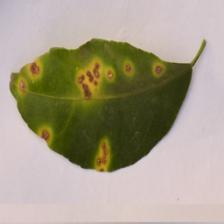canker: (8, 59, 144, 171)
